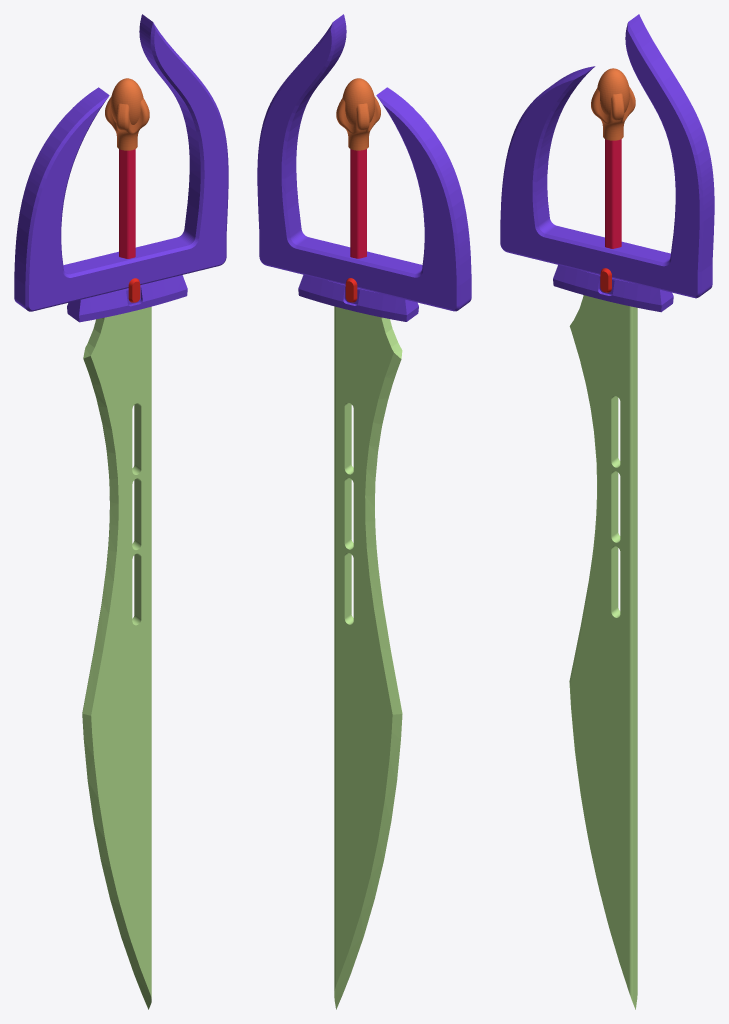
Rendered from Swordium-00001.gltf.
The picture shows the model from 3 angles, left to right: view 1: azimuth 30°, elevation 25°; view 2: azimuth 150°, elevation 25°; view 3: azimuth 330°, elevation 25°; orthographic projection.
Parts seen in each view (by area): view 1: stone-04; view 2: stone-04; view 3: stone-04.
Boxes of the visible parts, x1,y1,x2,y2 form: stone-04: [14, 14, 228, 1009]; stone-04: [257, 14, 471, 1009]; stone-04: [500, 14, 714, 1009].
Size of the model in its own units: 0.8632 by 4.03 by 0.1378.
